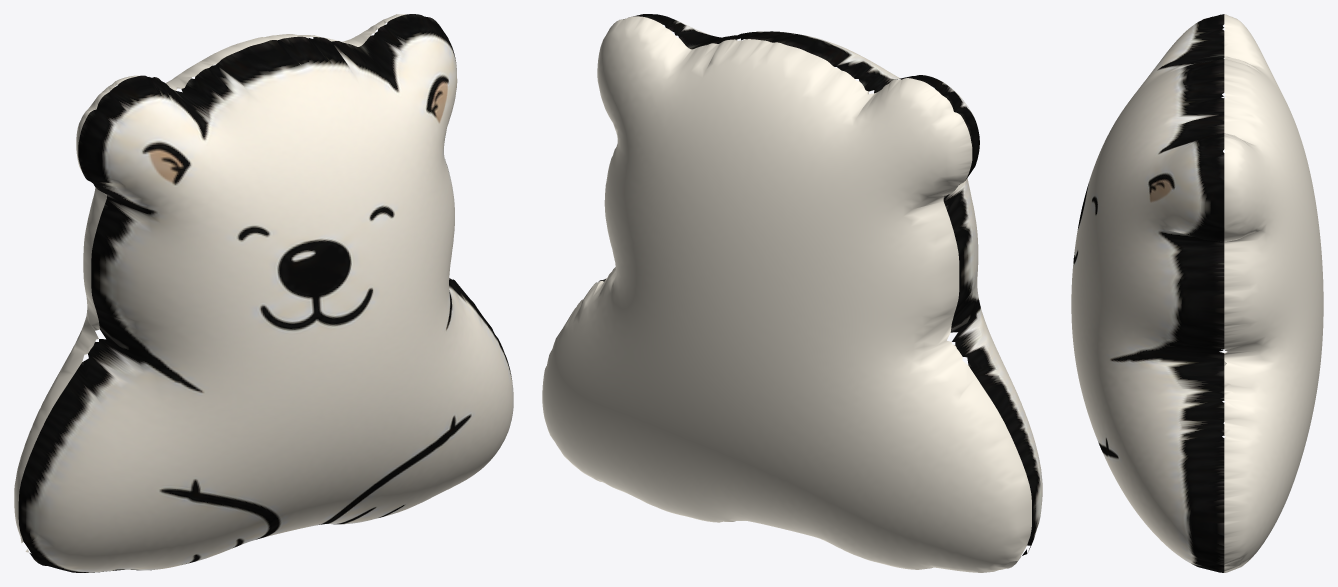
Rendered from bear.glb.
3 renders of one model, left to right at view 1: azimuth 30°, elevation 25°; view 2: azimuth 150°, elevation 25°; view 3: azimuth 270°, elevation 25°, orthographic. The views are drawn at different scales.
Size of the model in its own units: 1.68 by 1.62 by 0.8591.
Materials: 2 (1 with a texture image).
